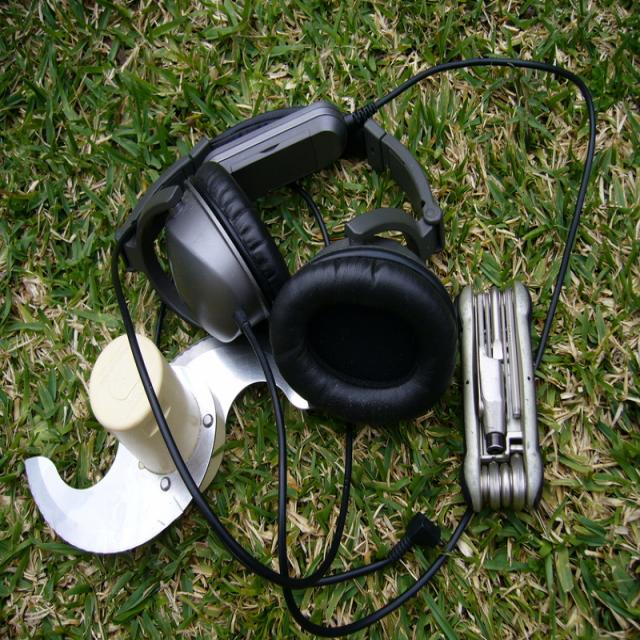headphones: (112, 59, 595, 636), (125, 103, 457, 423)
